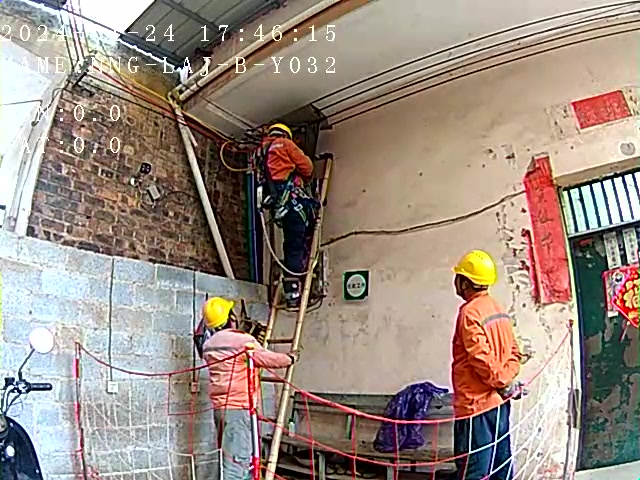halt: (453, 253, 500, 301), (202, 299, 239, 335), (270, 126, 295, 143)
